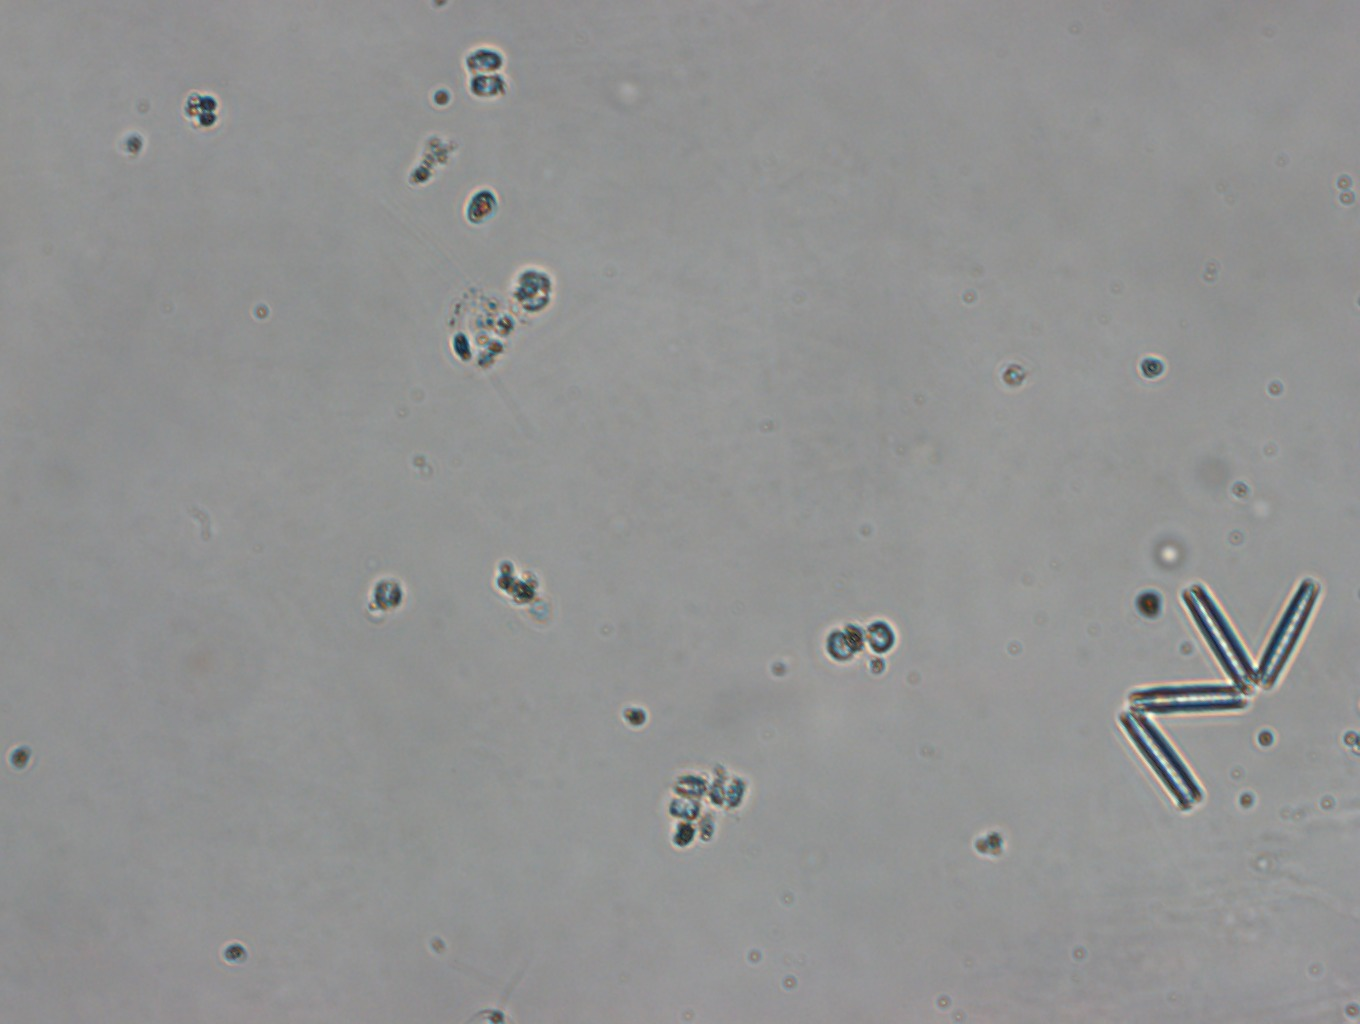thalassionema nitzschioides: (1114, 577, 1322, 810)
